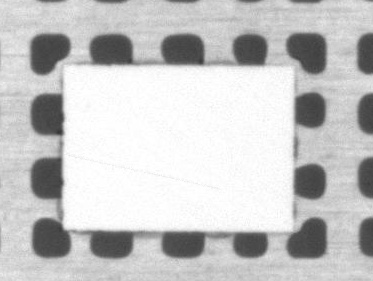DIE_CRACK: (90, 117, 289, 142)
